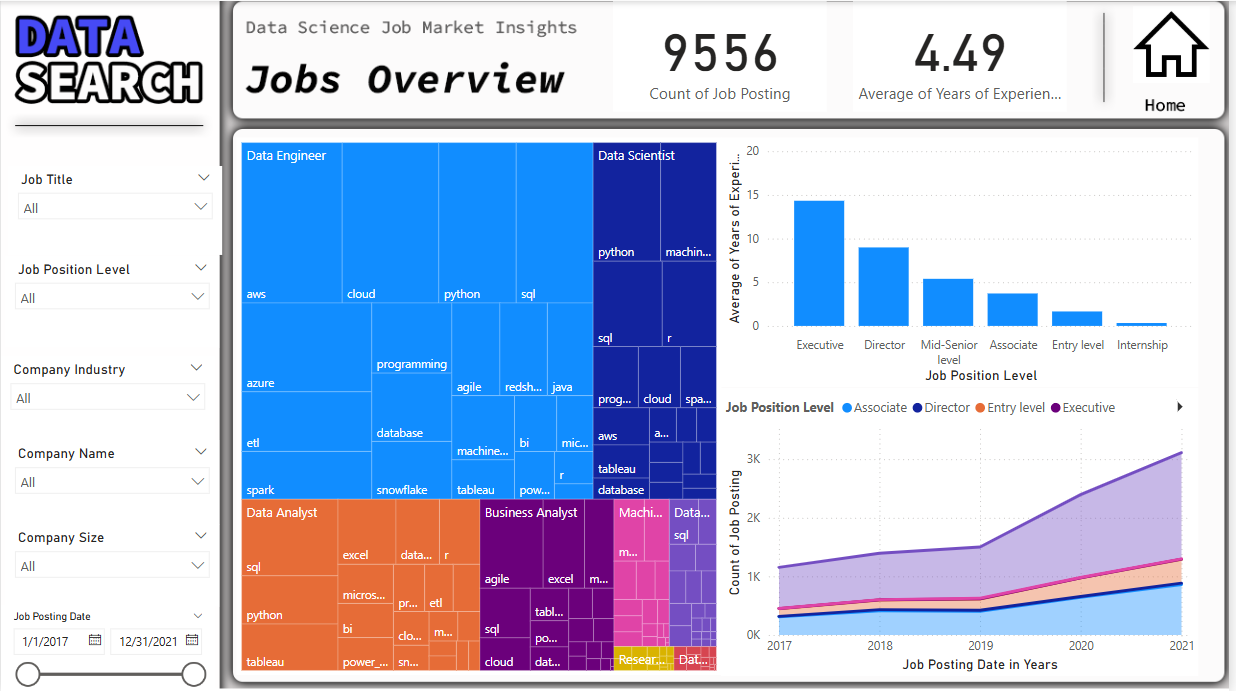

Layout of this report page (visuals, bound fields, positions):
{"tool":"powerbi","page":{"name":"Jobs","canvas":[1280,720],"ordinal":7},"visuals":[{"type":"treemap","fields":{"Group":["job_postings.Job Title"],"Details":["Job Skills.Job Skills"],"Values":["CountNonNull(Job Skills.Job Skills)"]},"box":[245,142.5,505,560],"z":0},{"type":"columnChart","fields":{"Category":["job_postings.Job Position Level"],"Y":["Avg(job_postings.Years of Experience)"]},"box":[750,142.5,497.5,260],"z":1000},{"type":"stackedAreaChart","fields":{"Category":["job_postings.Job Posting Date.Variation.Date Hierarchy.Year","job_postings.Job Posting Date.Variation.Date Hierarchy.Month"],"Series":["job_postings.Job Position Level"],"Y":["CountNonNull(job_postings.Job Posting ID)"]},"box":[750,402.5,497.5,300],"z":2000},{"type":"slicer","fields":{"Values":["job_postings.Job Title"]},"box":[7.5,172.5,222.5,92.5],"z":3000},{"type":"slicer","fields":{"Values":["job_postings.Job Position Level"]},"box":[5,265,222.5,95],"z":4000},{"type":"slicer","fields":{"Values":["job_postings.Company Industry"]},"box":[0,370,222.5,87.5],"z":5000},{"type":"slicer","fields":{"Values":["job_postings.Company Name"]},"box":[5,457.5,222.5,87.5],"z":6000},{"type":"slicer","fields":{"Values":["job_postings.Company Size"]},"box":[5,545,222.5,85],"z":7000},{"type":"slicer","fields":{"Values":["job_postings.Job Posting Date"]},"box":[0,630,222.5,90],"z":8000},{"type":"card","fields":{"Values":["CountNonNull(job_postings.Job Posting ID)"]},"box":[637.5,0,222.5,115],"z":9000},{"type":"card","fields":{"Values":["Avg(job_postings.Years of Experience)"]},"box":[887.5,0,222.5,115],"z":10000},{"type":"image","box":[1157.5,0,122.5,90],"z":10001}]}

Visuals, with their boxes in screenshot pixels (x1, y1, x2, y2), scaled from the page's 1280x720 canvas onto the 1236x691 screenshot:
treemap - job_postings.Job Title x Job Skills.Job Skills: l=237, t=137, r=724, b=674
columnChart - job_postings.Job Position Level x Avg(job_postings.Years of Experience): l=724, t=137, r=1205, b=386
stackedAreaChart - job_postings.Job Posting Date.Variation.Date Hierarchy.Year x job_postings.Job Posting Date.Variation.Date Hierarchy.Month: l=724, t=386, r=1205, b=674
slicer - job_postings.Job Title: l=7, t=166, r=222, b=254
slicer - job_postings.Job Position Level: l=5, t=254, r=220, b=346
slicer - job_postings.Company Industry: l=0, t=355, r=215, b=439
slicer - job_postings.Company Name: l=5, t=439, r=220, b=523
slicer - job_postings.Company Size: l=5, t=523, r=220, b=605
slicer - job_postings.Job Posting Date: l=0, t=605, r=215, b=690
card - CountNonNull(job_postings.Job Posting ID): l=616, t=0, r=830, b=110
card - Avg(job_postings.Years of Experience): l=857, t=0, r=1072, b=110
image: l=1118, t=0, r=1235, b=86
